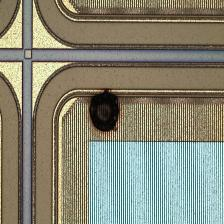PARTICLE: (82, 87, 130, 135)
